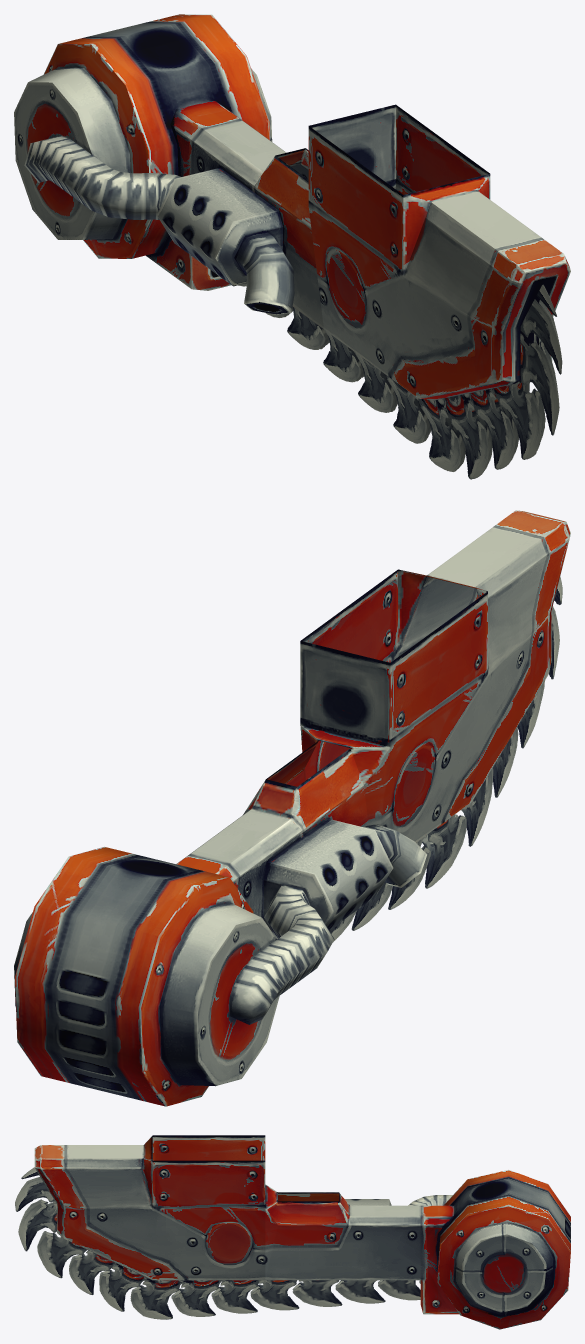
The model's file is chainsaw.fbx.
The picture shows the model from 3 angles, top to bottom: view 1: azimuth 30°, elevation 25°; view 2: azimuth 150°, elevation 25°; view 3: azimuth 270°, elevation 25°; orthographic projection. The views are drawn at different scales.
Parts seen in each view (by area): view 1: chainsaw, chain; view 2: chainsaw, chain; view 3: chainsaw, chain.
Boxes of the visible parts, left/top/right/bottom form: chainsaw: left=14, top=14, right=570, bottom=400; chain: left=238, top=283, right=562, bottom=479; chainsaw: left=14, top=510, right=570, bottom=1106; chain: left=329, top=577, right=562, bottom=942; chainsaw: left=34, top=1135, right=570, bottom=1329; chain: left=15, top=1167, right=420, bottom=1319.
Bounding box in the file's own units: 7.81 × 10.17 × 29.74.
